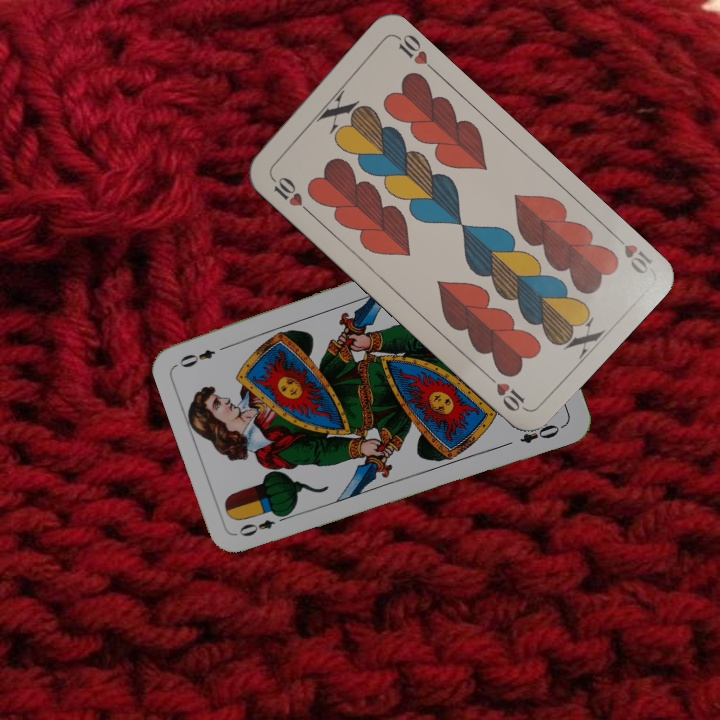EO: (234, 509, 292, 539)
H10: (607, 228, 655, 277), (265, 170, 313, 216)
